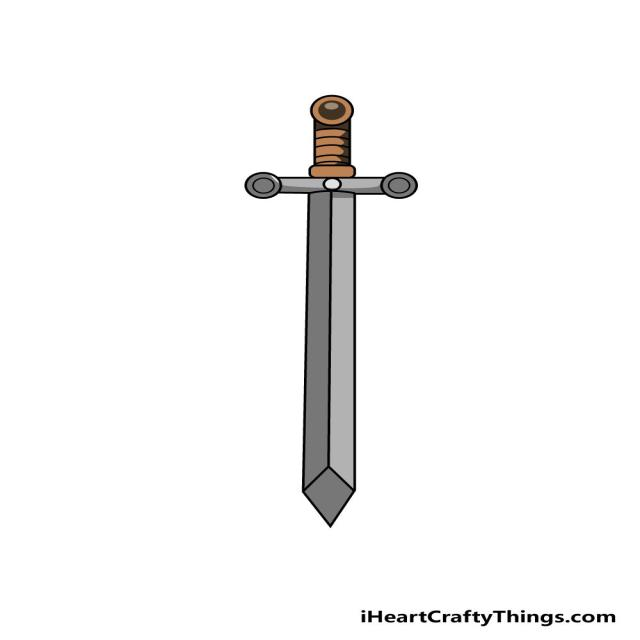weapon: (244, 90, 420, 530)
